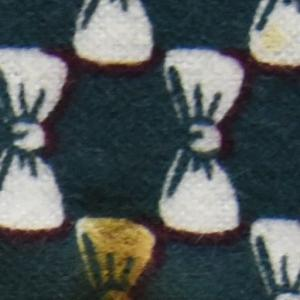Oil Stain: (73, 210, 167, 300)
Stain: (258, 25, 292, 59)
